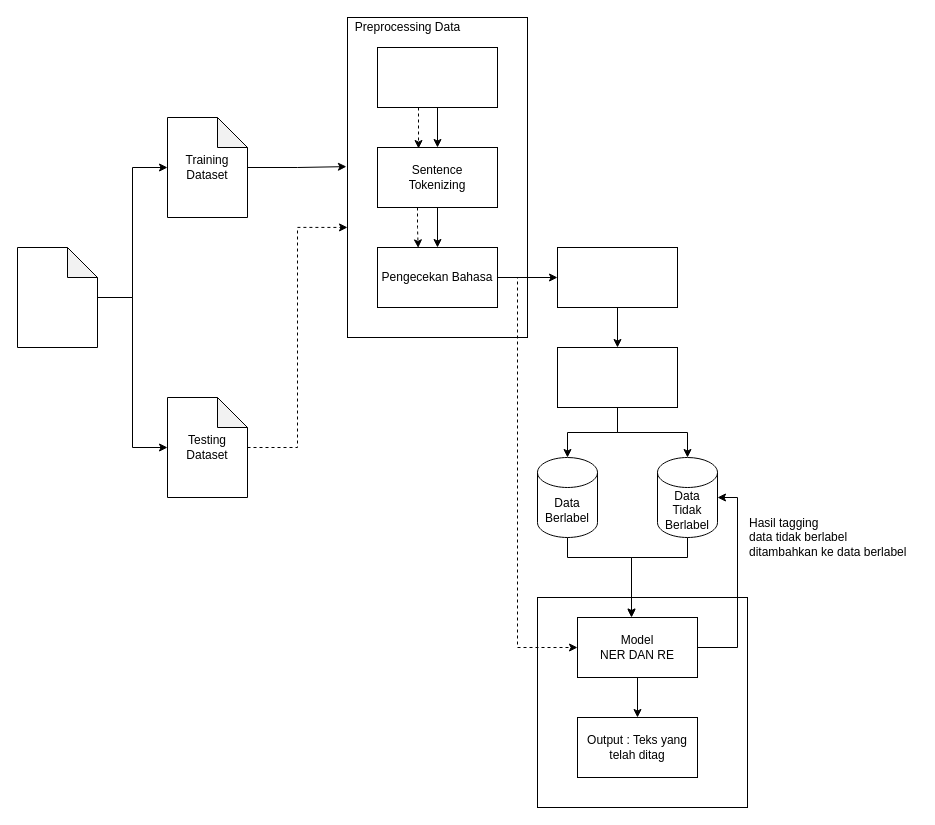
The diagram is 935 pixels wide and 825 high, and some of its shapes have lost their labels. The shapes that lost their labels are listed below. From the top down, each one's centre as x and y in pixels, then its label:
the point at 437,77: Extraksi .xlsx
the point at 57,297: Gold Standard Corpus.xlsx
the point at 617,277: POS Tagging
the point at 617,377: Entity Tagging
